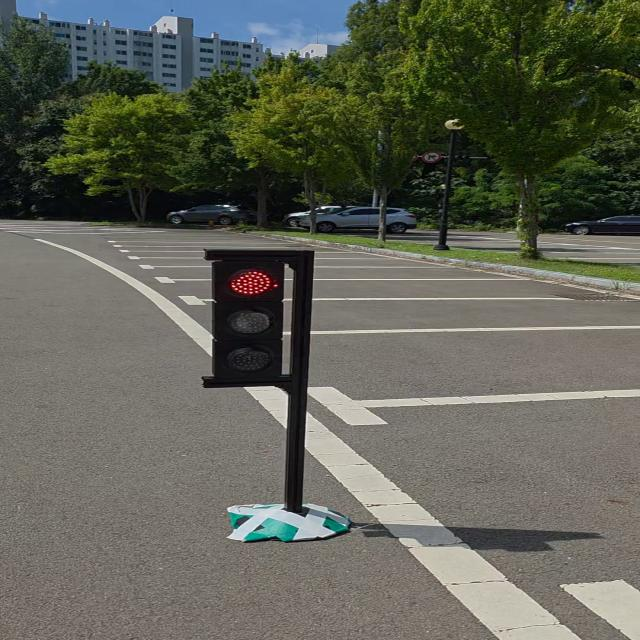red: (200, 248, 306, 382)
